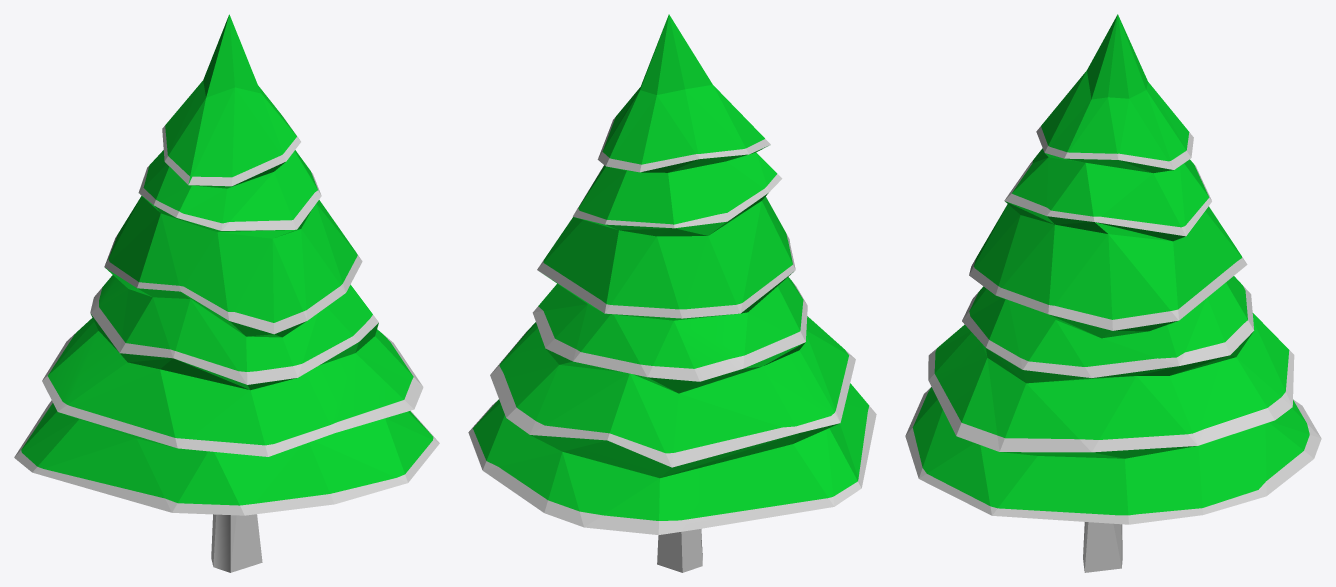
File: pine2Mod.fbx
3 renders of one model, left to right at view 1: azimuth 30°, elevation 25°; view 2: azimuth 150°, elevation 25°; view 3: azimuth 270°, elevation 25°, orthographic. The views are drawn at different scales.
Parts seen in each view (by area): view 1: trunk_Cube; view 2: trunk_Cube; view 3: trunk_Cube.
Part boxes in pixels (<box>): trunk_Cube: <box>14,14,439,572</box>; trunk_Cube: <box>468,14,876,572</box>; trunk_Cube: <box>905,14,1321,572</box>.
Size of the model in its own units: 624 by 897 by 613.
